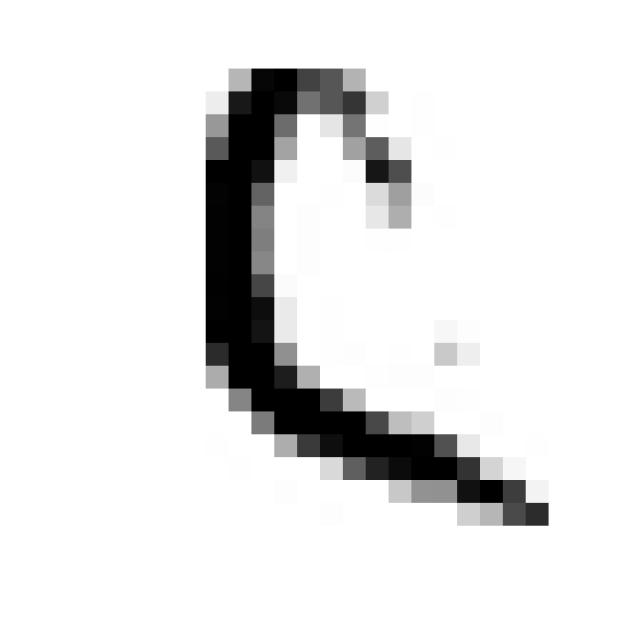2 -two-: (176, 36, 565, 546)
